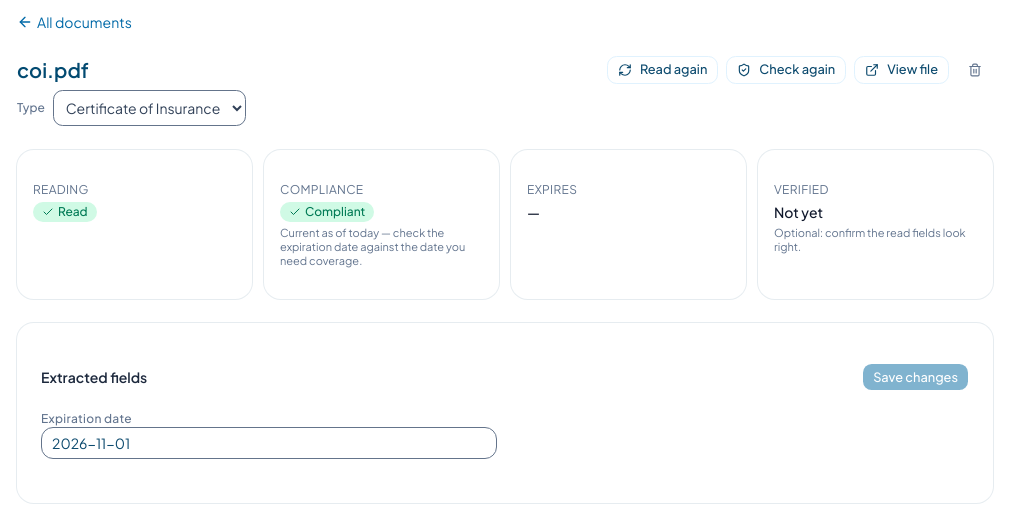
Scenario: DocumentDetailPage — pending edits vs. 'Read again' (#363) › does not discard a re-edit of the SAME field made while its save is in flight
Save "2027-05-05"…
Replace the text in the field showing "2026-11-01" with "2027-05-05" at (269, 443), box [41, 427, 497, 459]
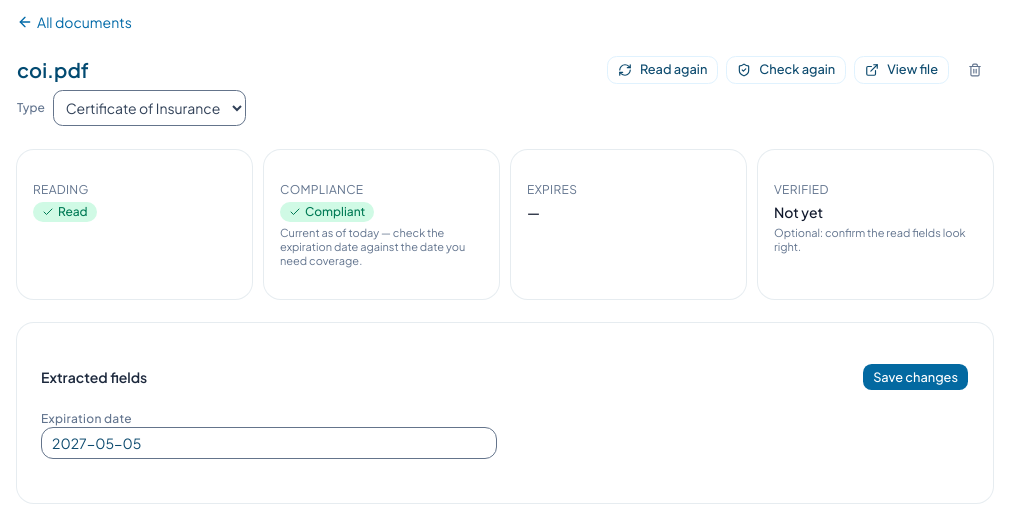
Click the button "Save changes" at (916, 377), box [862, 363, 969, 391]
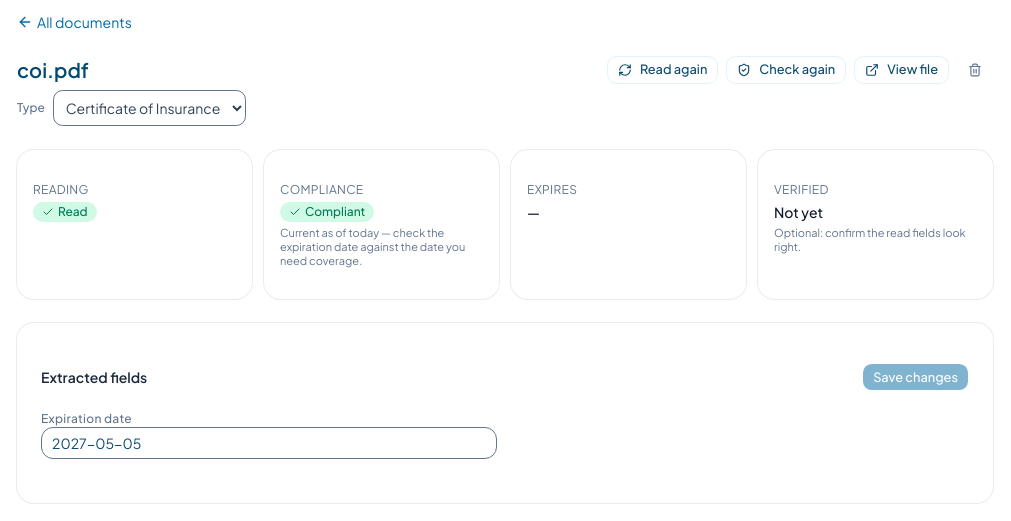
Expected: the button "Save changes" is disabled, [862, 363, 969, 391]
…then correct THAT SAME field again before the request settles.
Replace the text in the field labelled "Expiration date" with "2027-06-06" at (269, 443), box [41, 427, 497, 459]
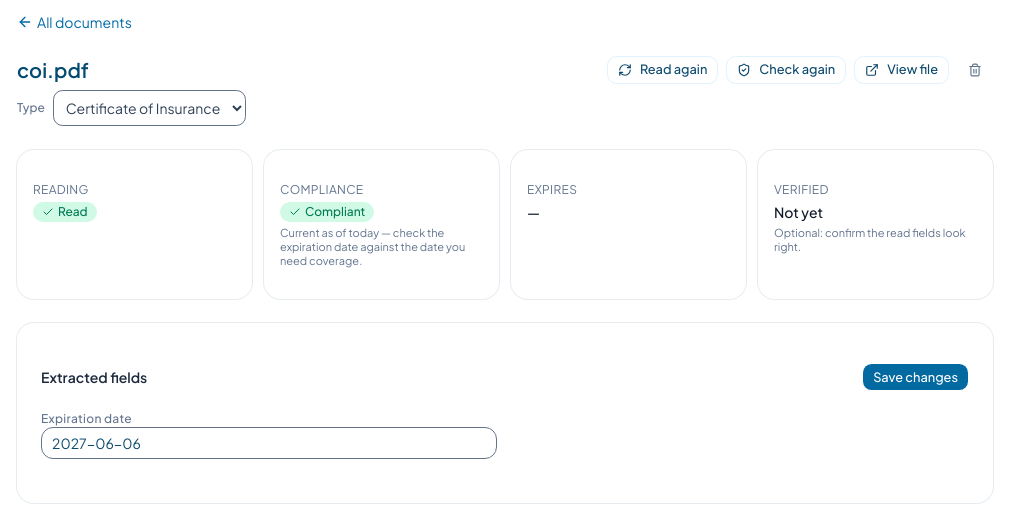
Expected: the button "Save changes" is enabled, [862, 363, 969, 391]
